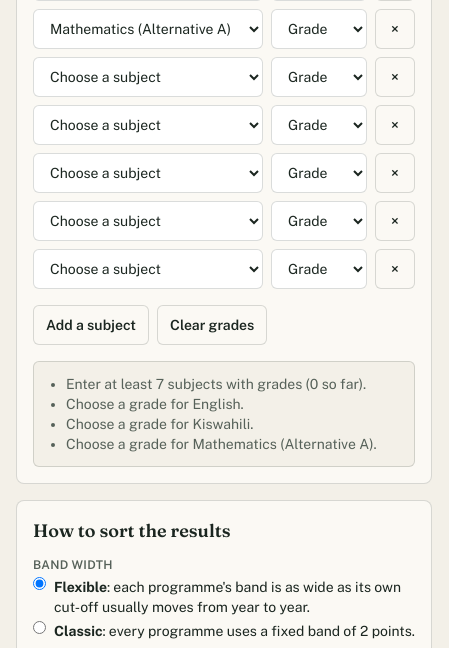
it: filling in the grade form › stops adding subject rows at twelve
(page scrolled)
Click the button "Add a subject": point(91, 325) [33,305,149,345]
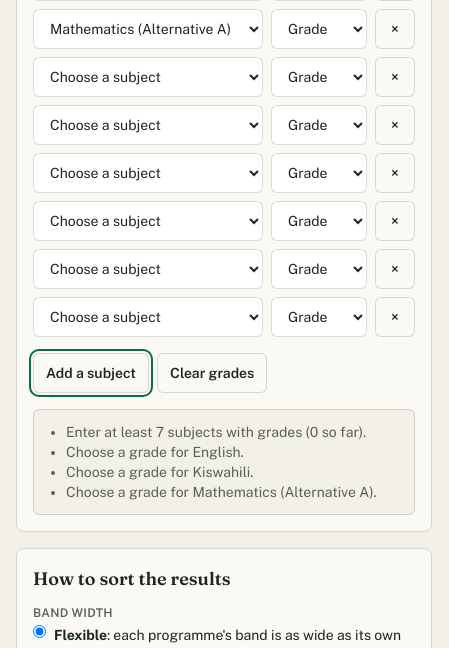
Click the button "Add a subject": point(91, 373) [33,353,149,393]
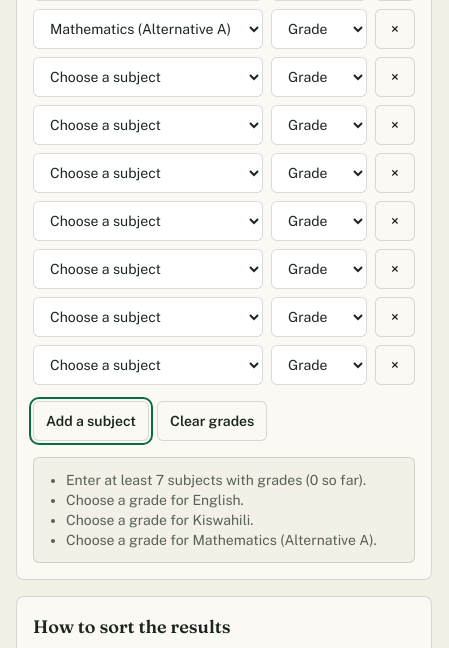
Click the button "Add a subject": point(91, 421) [33,401,149,441]
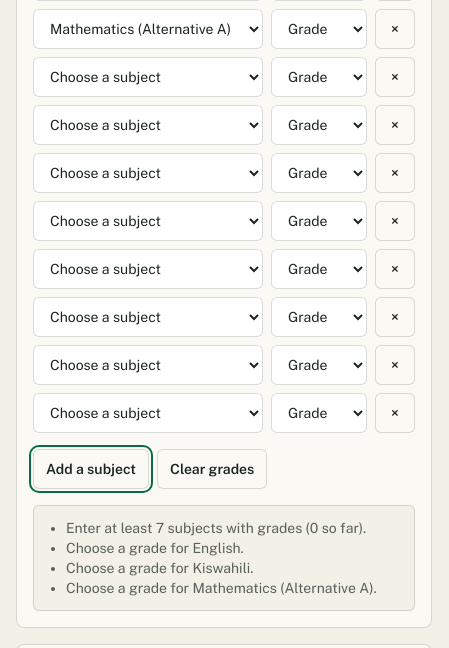
Click the button "Add a subject": point(91, 469) [33,449,149,489]
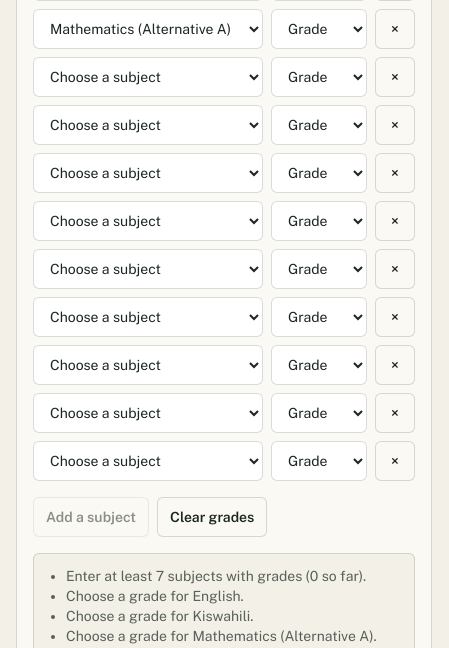
Expected: the button "Add a subject" is disabled, [33,497,149,537]
